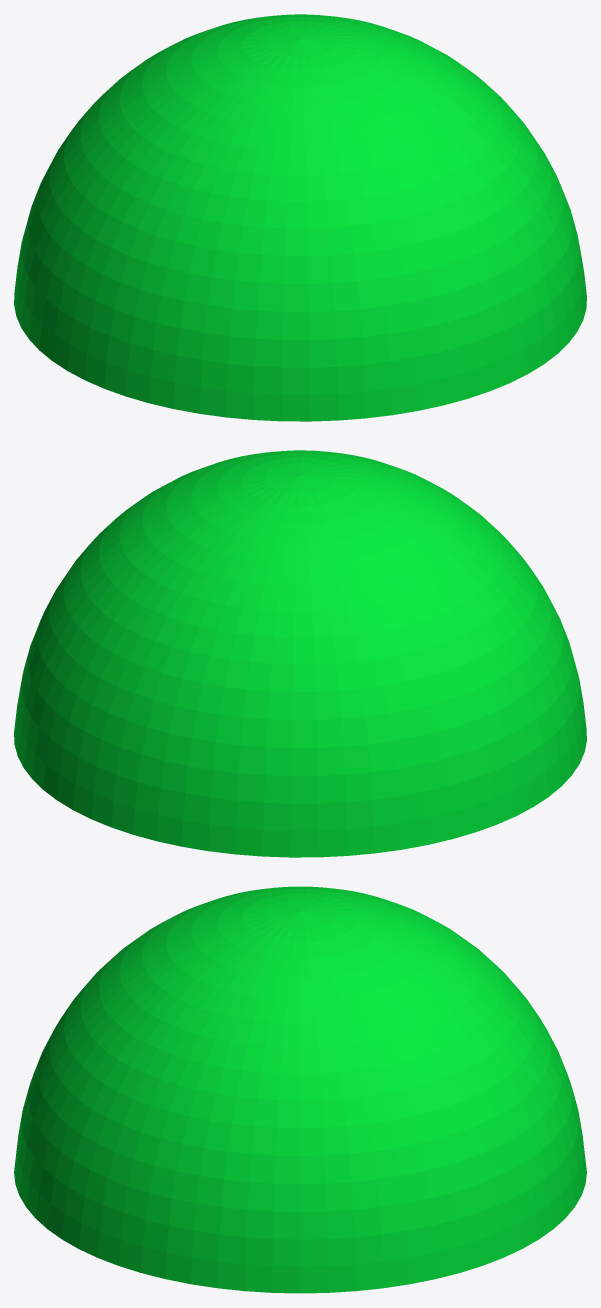
File: HalfSphere.fbx
3 views of the same model, one above another, from view 1: azimuth 30°, elevation 25°; view 2: azimuth 150°, elevation 25°; view 3: azimuth 270°, elevation 25° (orthographic).
Visible parts, largest first — view 1: 球; view 2: 球; view 3: 球.
Boxes of the visible parts, x1=… form: 球: x1=14, y1=14, x2=586, y2=421; 球: x1=14, y1=450, x2=586, y2=857; 球: x1=14, y1=886, x2=586, y2=1293.
Bounding box in the file's own units: 1.99 × 0.9976 × 1.99.
